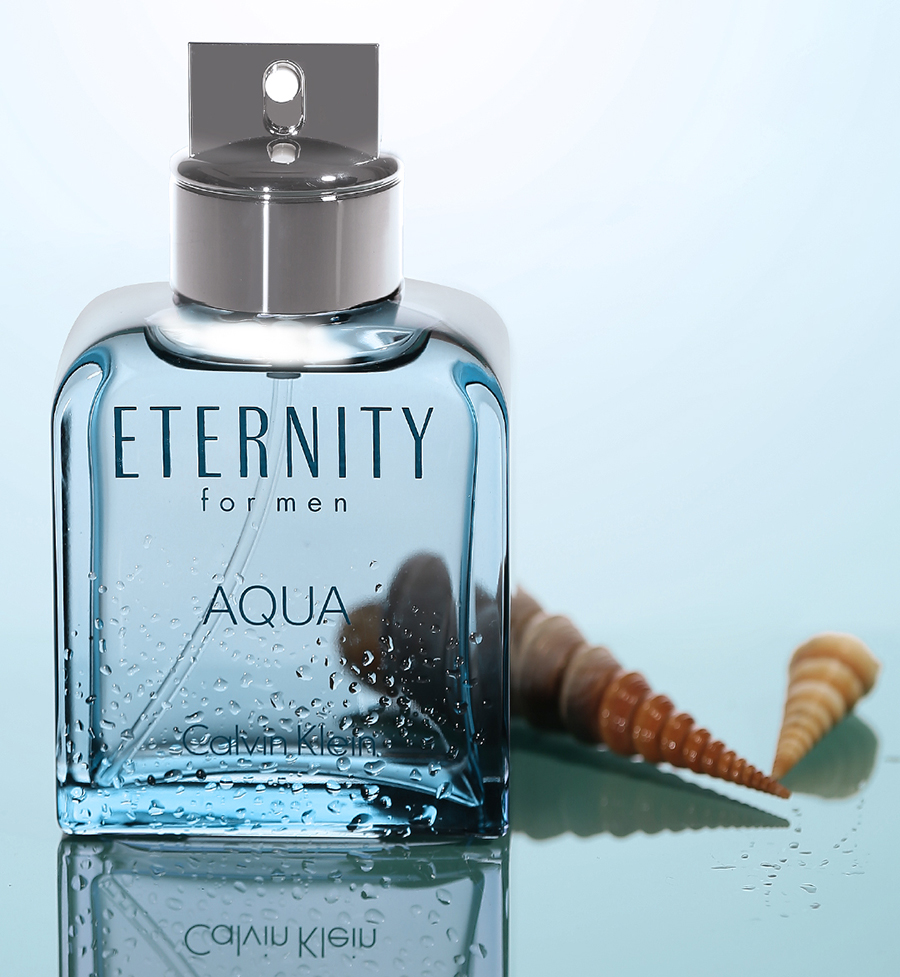Calvin Klein: (179, 715, 385, 766), (179, 917, 381, 961)
